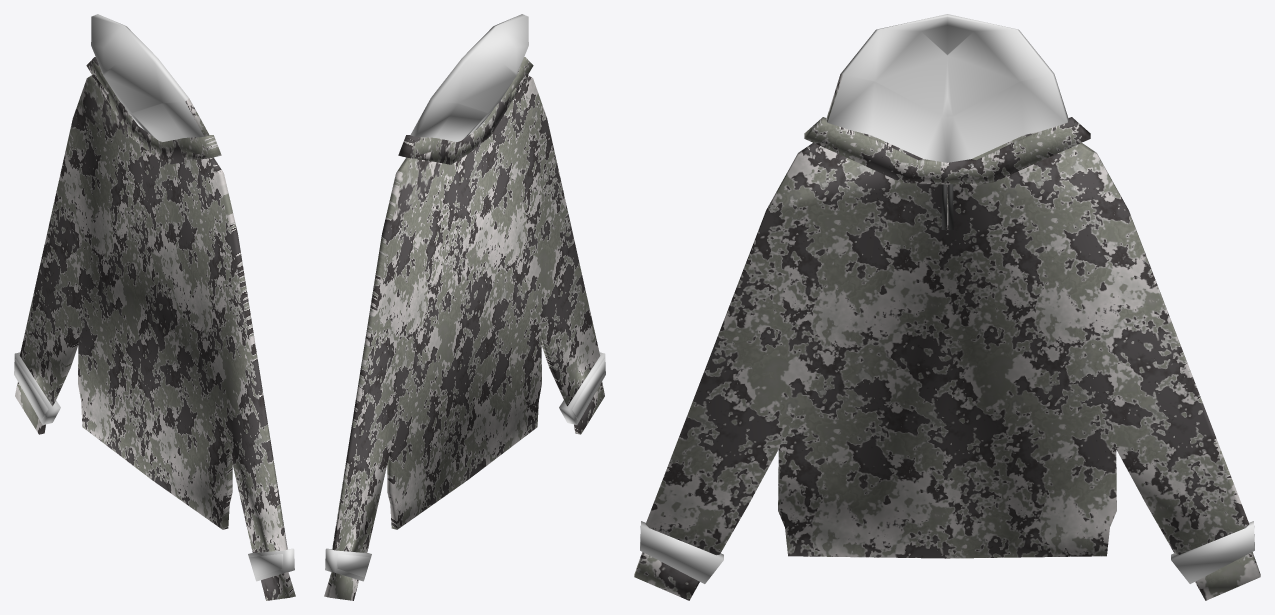
File: hoodie4.fbx
The picture shows the model from 3 angles, left to right: view 1: azimuth 30°, elevation 25°; view 2: azimuth 150°, elevation 25°; view 3: azimuth 270°, elevation 25°; orthographic projection. The views are drawn at different scales.
Parts seen in each view (by area): view 1: hoodie4; view 2: hoodie4; view 3: hoodie4.
Boxes of the visible parts, x1,y1,x2,y2 form: hoodie4: (14, 14, 295, 600); hoodie4: (324, 14, 605, 600); hoodie4: (634, 14, 1260, 600).
Size of the model in its own units: 0.3995 by 3.39 by 3.39.
